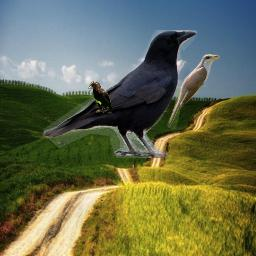Crow: (43, 30, 197, 158), (88, 81, 112, 114)
Cuckoo: (166, 54, 220, 129)
